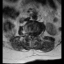CCS_severe_stenosis: (31, 32, 33, 38)
LFS_severe_stenosis: (35, 32, 37, 36)
LLS_severe_stenosis: (33, 32, 35, 37)
RFS_severe_stenosis: (28, 31, 29, 36)
RLS_severe_stenosis: (29, 32, 32, 37)
